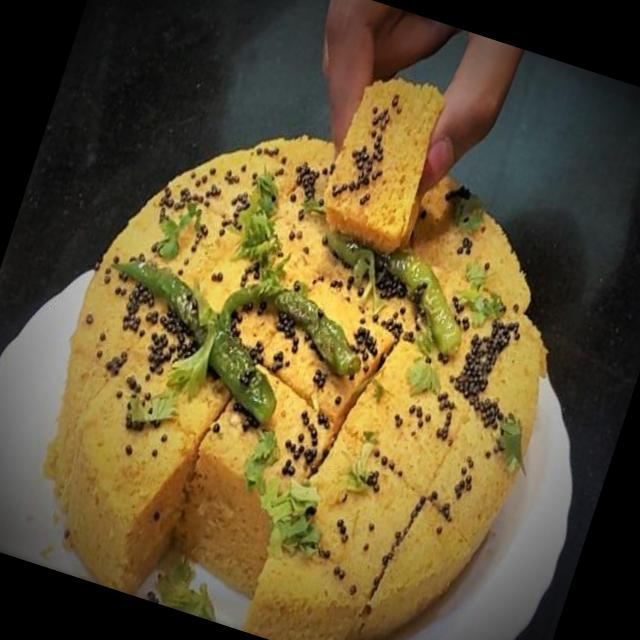dhokla: (4, 77, 595, 640), (308, 59, 456, 260)
